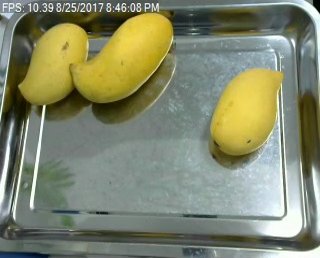Mango: (69, 13, 176, 104), (207, 67, 289, 155), (11, 21, 90, 109)
